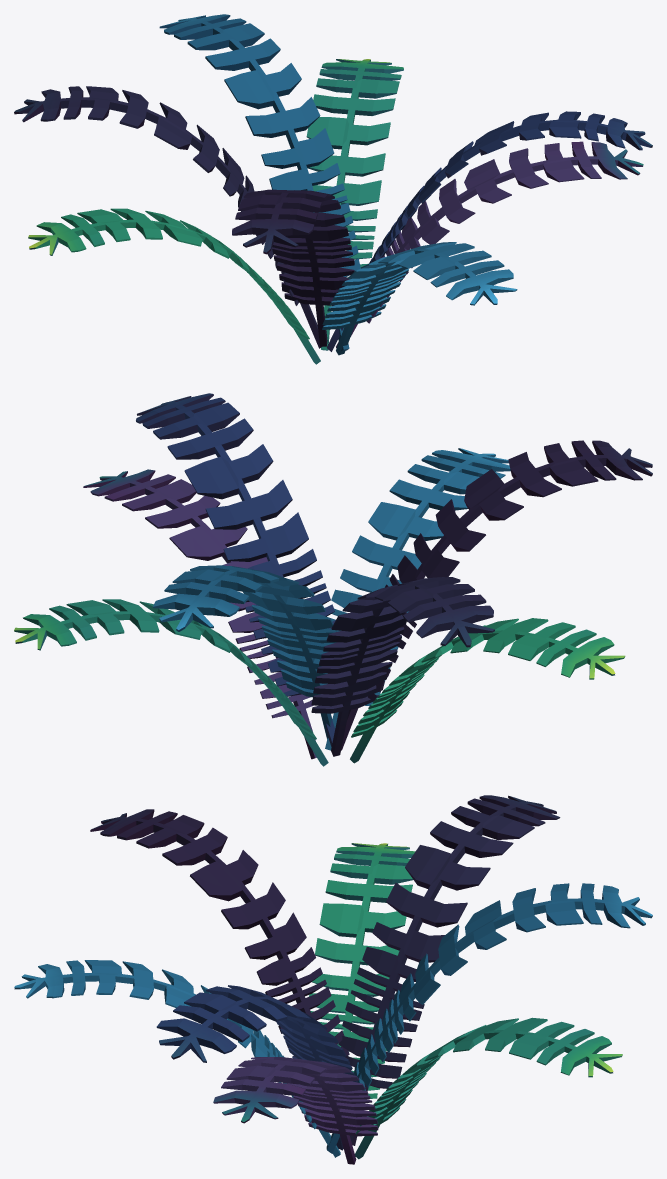
Rendered from Garden_BigFern.fbx.
3 renders of one model, top to bottom at view 1: azimuth 30°, elevation 25°; view 2: azimuth 150°, elevation 25°; view 3: azimuth 270°, elevation 25°, orthographic. The views are drawn at different scales.
Parts seen in each view (by area): view 1: Cube.426, Cube.422, Cube.425, Cube.421, Cube.427, Cube.424, Cube.423, Cube.428; view 2: Cube.428, Cube.424, Cube.426, Cube.422, Cube.421, Cube.427, Cube.423, Cube.425; view 3: Cube.424, Cube.422, Cube.426, Cube.423, Cube.427, Cube.428, Cube.425, Cube.421.
Part boxes in pixels (x1=…): Cube.426: x1=159, y1=14, x2=360, y2=351; Cube.422: x1=232, y1=189, x2=354, y2=346; Cube.425: x1=306, y1=59, x2=403, y2=350; Cube.421: x1=322, y1=242, x2=517, y2=355; Cube.427: x1=336, y1=141, x2=643, y2=348; Cube.424: x1=14, y1=86, x2=321, y2=348; Cube.423: x1=28, y1=208, x2=320, y2=364; Cube.428: x1=327, y1=111, x2=652, y2=351; Cube.428: x1=136, y1=393, x2=335, y2=746; Cube.424: x1=311, y1=577, x2=494, y2=756; Cube.426: x1=153, y1=565, x2=336, y2=739; Cube.422: x1=341, y1=440, x2=652, y2=750; Cube.421: x1=325, y1=448, x2=510, y2=750; Cube.427: x1=83, y1=469, x2=316, y2=759; Cube.423: x1=350, y1=618, x2=625, y2=763; Cube.425: x1=14, y1=599, x2=328, y2=766; Cube.424: x1=338, y1=795, x2=560, y2=1145; Cube.422: x1=90, y1=809, x2=349, y2=1057; Cube.426: x1=326, y1=883, x2=652, y2=1153; Cube.423: x1=309, y1=843, x2=415, y2=1098; Cube.427: x1=213, y1=1057, x2=378, y2=1164; Cube.428: x1=156, y1=985, x2=357, y2=1150; Cube.425: x1=355, y1=1017, x2=622, y2=1159; Cube.421: x1=14, y1=960, x2=340, y2=1157.
Bounding box in the file's own units: 518 × 226 × 501.
